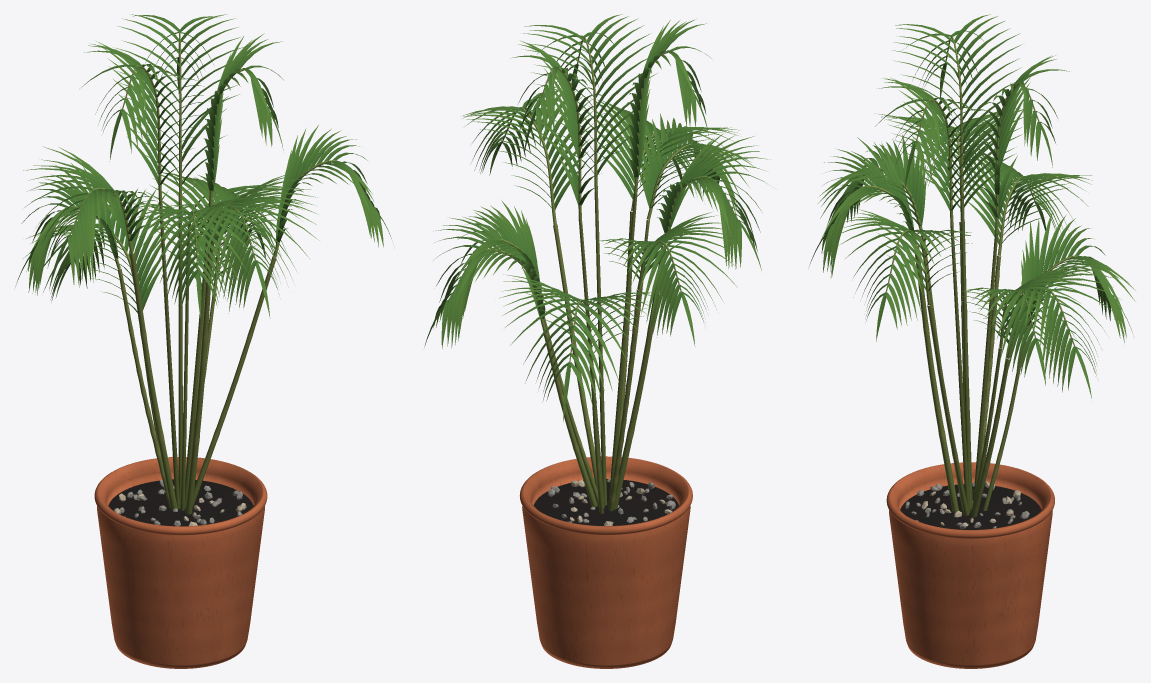
File: Office_Plant_Areca_Palm.glb
3 views of the same model, side by side, from view 1: azimuth 30°, elevation 25°; view 2: azimuth 150°, elevation 25°; view 3: azimuth 270°, elevation 25° (orthographic). The views are drawn at different scales.
Visible parts, largest first — view 1: Pot_Terracotta, Frond_1_Leaflets, Frond_3_Leaflets, Frond_6_Leaflets, Frond_Young_3_Leaflets, Frond_Young_2_Leaflets, Frond_4_Leaflets, Frond_5_Leaflets, Soil_Bed, Frond_Young_1_Leaflets, Frond_8_Leaflets, Frond_7_Leaflets (+10 smaller); view 2: Pot_Terracotta, Frond_5_Leaflets, Frond_8_Leaflets, Frond_3_Leaflets, Frond_Young_2_Leaflets, Frond_4_Leaflets, Frond_Young_1_Leaflets, Frond_2_Leaflets, Soil_Bed, Frond_Young_3_Leaflets, Frond_6_Leaflets, Frond_1_Leaflets (+13 smaller); view 3: Pot_Terracotta, Frond_2_Leaflets, Frond_4_Leaflets, Frond_Young_3_Leaflets, Frond_Young_1_Leaflets, Frond_5_Leaflets, Frond_Young_2_Leaflets, Frond_8_Leaflets, Frond_7_Leaflets, Frond_1_Leaflets, Soil_Bed, Frond_6_Leaflets (+12 smaller).
Part boxes in pixels (x1,y1,x2,y2): Pot_Terracotta: [94, 457, 267, 668]; Frond_1_Leaflets: [167, 173, 319, 318]; Frond_3_Leaflets: [23, 146, 157, 290]; Frond_6_Leaflets: [130, 197, 258, 319]; Frond_Young_3_Leaflets: [81, 41, 209, 186]; Frond_Young_2_Leaflets: [115, 14, 243, 184]; Frond_4_Leaflets: [276, 125, 391, 247]; Frond_5_Leaflets: [23, 189, 172, 313]; Soil_Bed: [108, 479, 253, 526]; Frond_Young_1_Leaflets: [203, 33, 283, 191]; Frond_8_Leaflets: [15, 163, 118, 295]; Frond_7_Leaflets: [176, 174, 305, 280]; Pot_Terracotta: [519, 456, 692, 668]; Frond_5_Leaflets: [499, 274, 654, 421]; Frond_8_Leaflets: [595, 212, 740, 346]; Frond_3_Leaflets: [656, 133, 769, 270]; Frond_Young_2_Leaflets: [510, 40, 628, 206]; Frond_4_Leaflets: [462, 87, 593, 210]; Frond_Young_1_Leaflets: [523, 14, 657, 176]; Frond_2_Leaflets: [424, 211, 545, 348]; Soil_Bed: [533, 479, 678, 525]; Frond_Young_3_Leaflets: [626, 19, 711, 178]; Frond_6_Leaflets: [639, 113, 754, 212]; Frond_1_Leaflets: [583, 97, 739, 199]; Pot_Terracotta: [886, 462, 1054, 668]; Frond_2_Leaflets: [977, 257, 1121, 398]; Frond_4_Leaflets: [836, 209, 972, 341]; Frond_Young_3_Leaflets: [892, 14, 1022, 176]; Frond_Young_1_Leaflets: [875, 77, 994, 211]; Frond_5_Leaflets: [1021, 211, 1135, 342]; Frond_Young_2_Leaflets: [971, 55, 1069, 218]; Frond_8_Leaflets: [957, 154, 1091, 244]; Frond_7_Leaflets: [962, 266, 1088, 385]; Frond_1_Leaflets: [809, 137, 914, 277]; Soil_Bed: [900, 484, 1041, 529]; Frond_6_Leaflets: [818, 134, 926, 226].
Size of the model in its own units: 0.9118 by 1.7 by 0.8607.
Materials: 6 (1 with a texture image).
